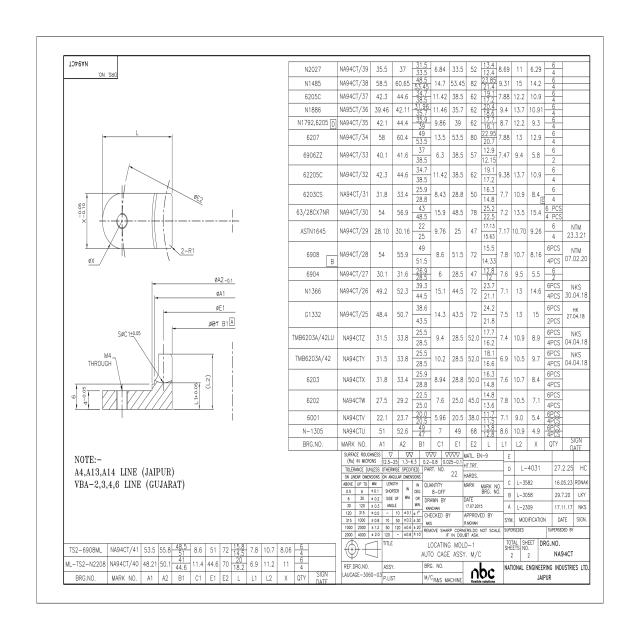dimension: (86, 351, 113, 368), (117, 329, 142, 339), (77, 201, 87, 225), (207, 318, 229, 328), (179, 245, 197, 256), (214, 275, 234, 284), (193, 381, 200, 406), (192, 192, 205, 205), (204, 372, 212, 392), (80, 385, 87, 406), (86, 256, 97, 266), (215, 289, 226, 298), (215, 303, 225, 312), (134, 127, 140, 137), (70, 392, 76, 401)
